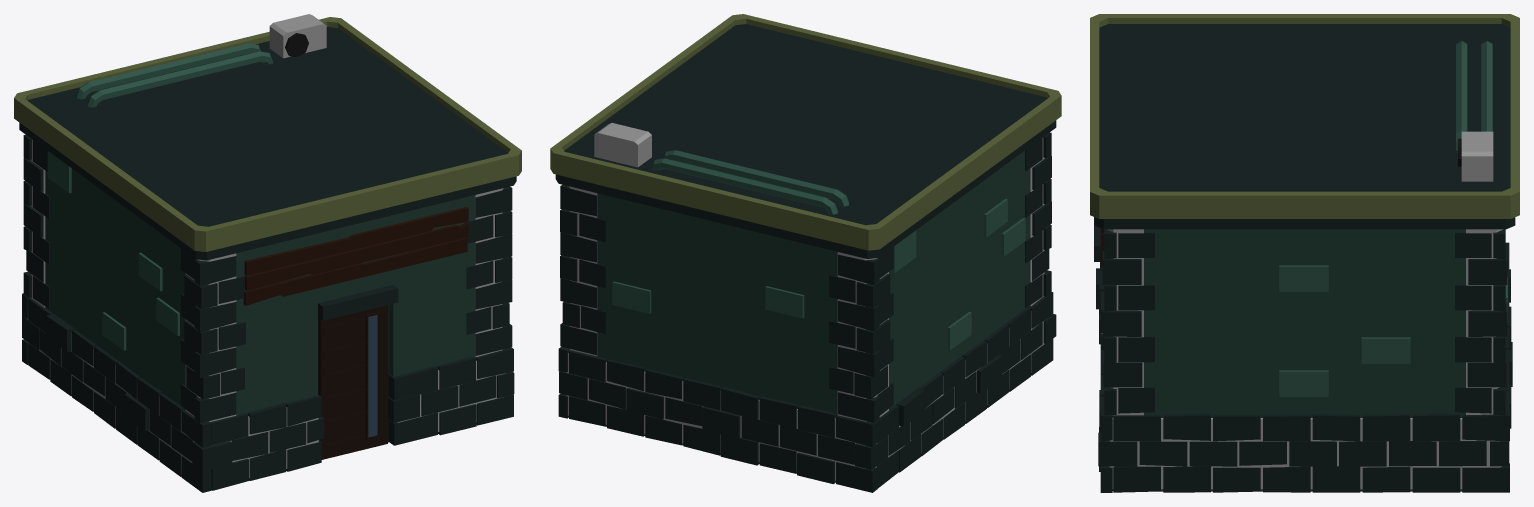
The model's file is bld_1Story_Sign_Mat.glb.
3 views of the same model, side by side, from view 1: azimuth 30°, elevation 25°; view 2: azimuth 150°, elevation 25°; view 3: azimuth 270°, elevation 25° (orthographic). The views are drawn at different scales.
Visible parts, largest first — view 1: 1Story_Sign_Mat; view 2: 1Story_Sign_Mat; view 3: 1Story_Sign_Mat.
Part boxes in pixels (x1=…): 1Story_Sign_Mat: x1=14, y1=14, x2=521, y2=492; 1Story_Sign_Mat: x1=550, y1=14, x2=1061, y2=492; 1Story_Sign_Mat: x1=1090, y1=14, x2=1519, y2=492.
Size of the model in its own units: 215 by 179 by 215.
